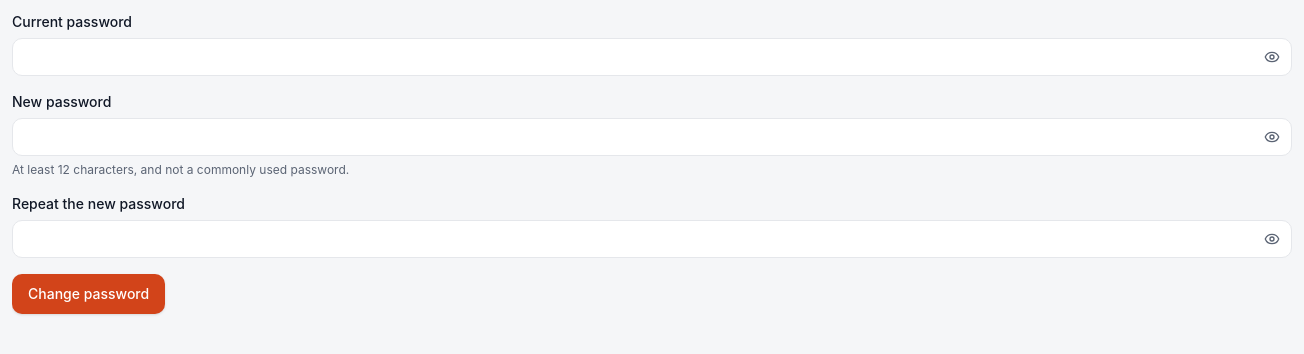
Test: password screens › change: a wrong current password is shown on that field
Type "old-password-12" into the password field labelled "Current password". click: (652, 57)
box: [12,38,1292,76]
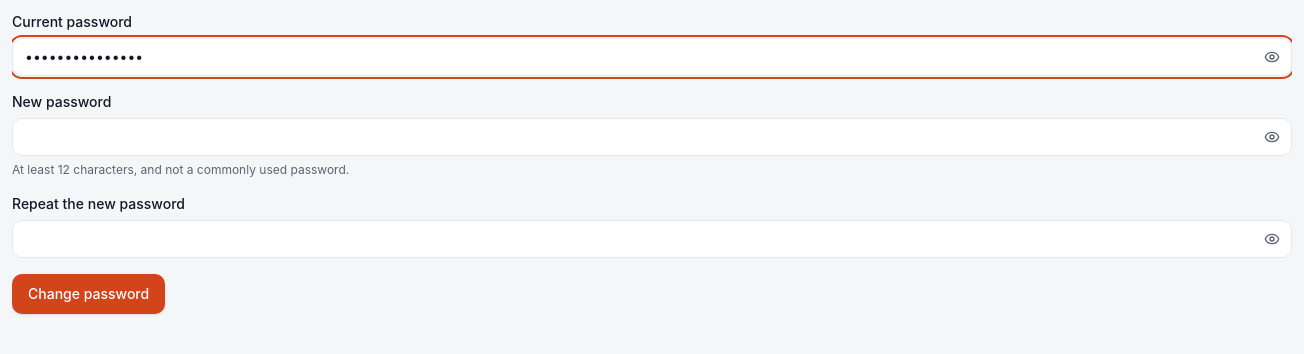
Type "blue-kettle-river-9" into the password field labelled "New password". click: (652, 137)
box: [12,118,1292,156]
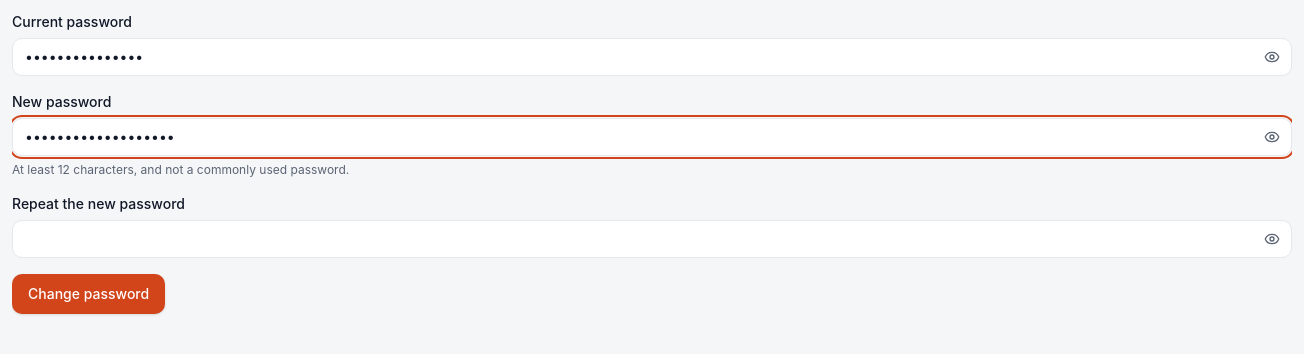
Type "blue-kettle-river-9" into the password field labelled "Repeat the new password". click: (652, 239)
box: [12,220,1292,258]
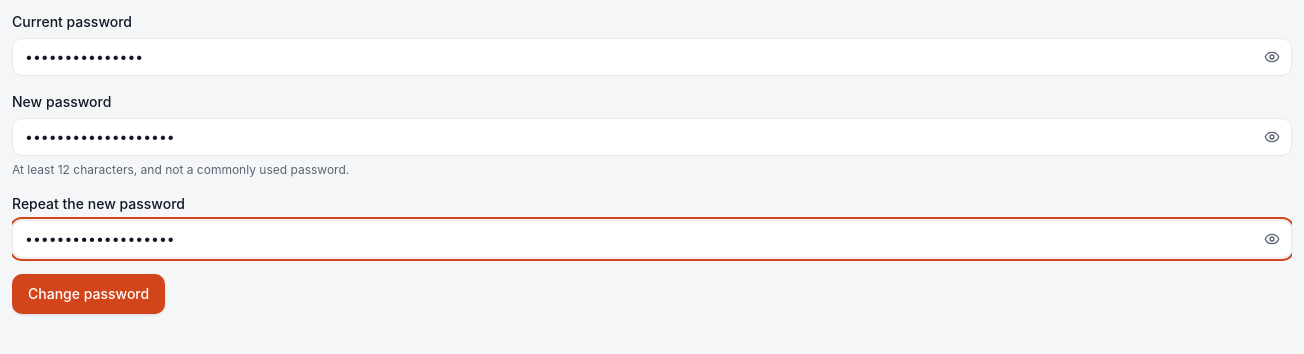
Click the button "Change password". click: (89, 294)
box: [12,274,165,314]
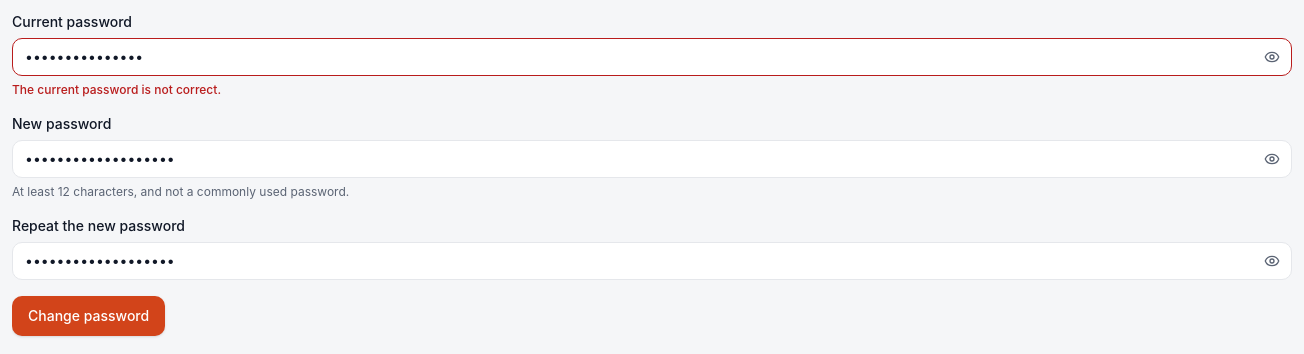
Expected: the text "The current password is not correct." is shown, [12,82,221,97]
